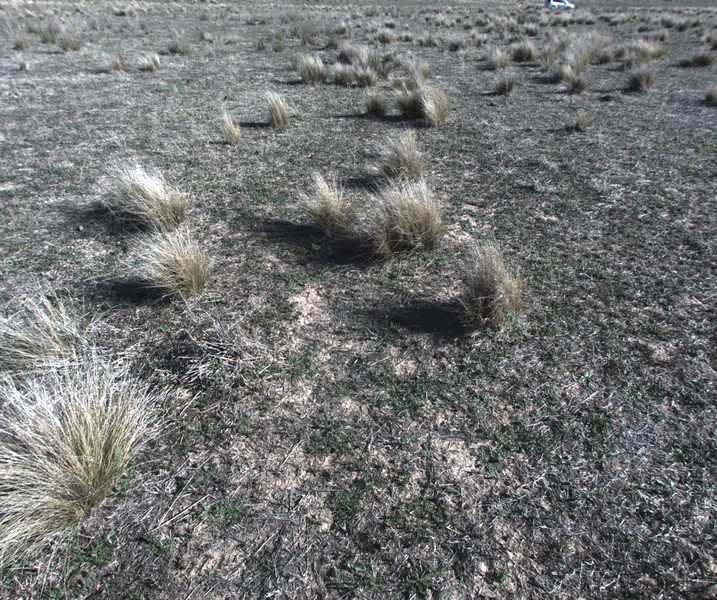st: (3, 359, 149, 538), (447, 243, 530, 331), (98, 164, 188, 233), (140, 237, 209, 309), (296, 175, 358, 251), (375, 185, 439, 253), (378, 131, 422, 187), (414, 89, 452, 129), (264, 88, 294, 135), (215, 103, 241, 154), (404, 51, 428, 88), (97, 54, 129, 80), (363, 90, 388, 122), (296, 60, 326, 86), (562, 69, 590, 94), (487, 42, 511, 70), (338, 63, 362, 88), (566, 108, 592, 129), (627, 69, 654, 89), (488, 70, 512, 92), (360, 63, 381, 88), (701, 84, 717, 116), (144, 47, 161, 70), (514, 43, 534, 62), (19, 54, 27, 69)
